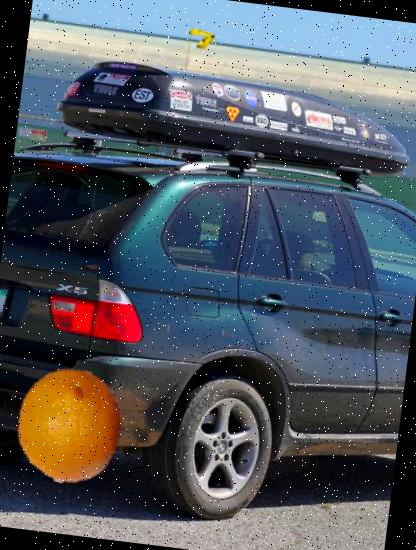Lemon: (6, 362, 135, 491)
